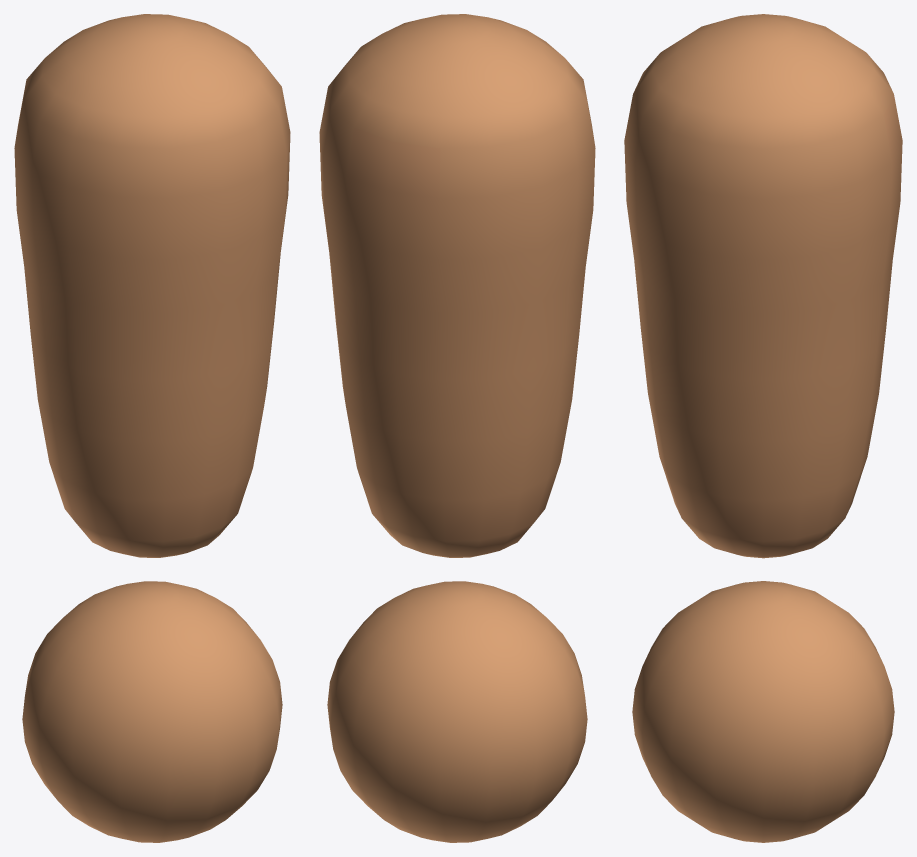
The model's file is Exclamation mark2.fbx.
3 renders of one model, left to right at view 1: azimuth 30°, elevation 25°; view 2: azimuth 150°, elevation 25°; view 3: azimuth 270°, elevation 25°, orthographic.
Visible parts, largest first — view 1: pSphere4; view 2: pSphere4; view 3: pSphere4.
Boxes of the visible parts, x1,y1,x2,y2 form: pSphere4: (14, 14, 290, 842); pSphere4: (319, 14, 595, 842); pSphere4: (624, 14, 902, 842).
Size of the model in its own units: 1.77 by 5.62 by 1.77.
